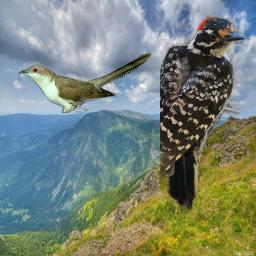Cuckoo: (18, 52, 151, 113)
Woodpecker: (160, 14, 246, 214)
